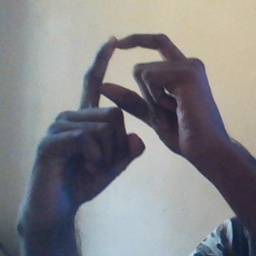D: (71, 30, 192, 162)
